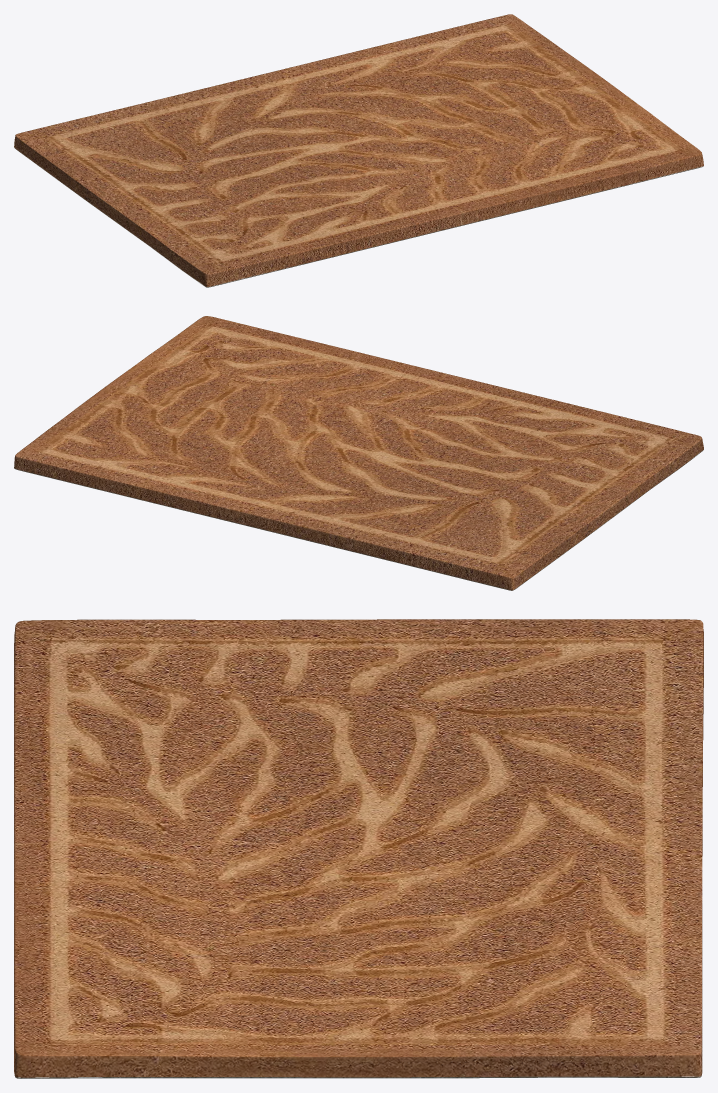
File: 11 - KONTANTER - 門墊，椰纖自然風格，40x60 公分 IKEA 線上購物.glb
3 views of the same model, one above another, from view 1: azimuth 30°, elevation 25°; view 2: azimuth 150°, elevation 25°; view 3: azimuth 270°, elevation 25° (orthographic). The views are drawn at different scales.
Parts seen in each view (by area): view 1: 001, 22; view 2: 001, 22; view 3: 001, 22.
Boxes of the visible parts, x1,y1,x2,y2 form: 001: [14, 14, 703, 286]; 22: [14, 147, 703, 287]; 001: [14, 316, 703, 590]; 22: [14, 450, 703, 590]; 001: [14, 619, 703, 1077]; 22: [15, 1075, 701, 1078].
Size of the model in its own units: 0.6 by 0.015 by 0.4001.
2 materials, 2 textured.
